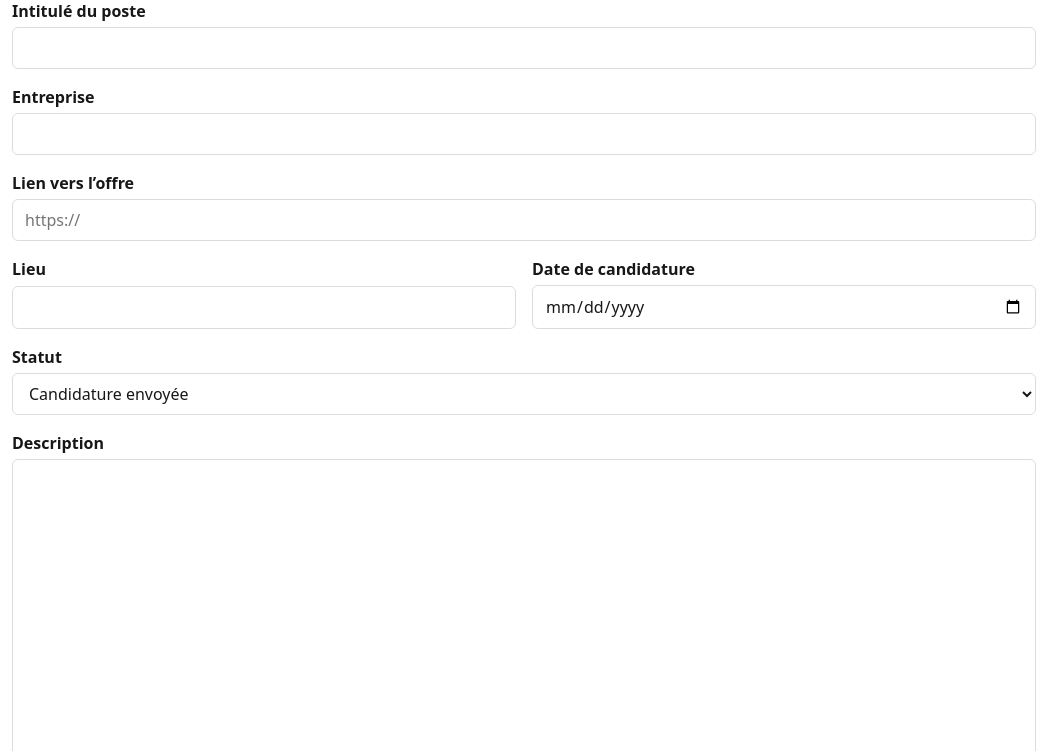
Test: OfferForm › shows the errors returned by the action and keeps the values
Step 1. Type "Dev" into the field labelled "Intitulé du poste" → (524, 48), box [12,27,1036,69]
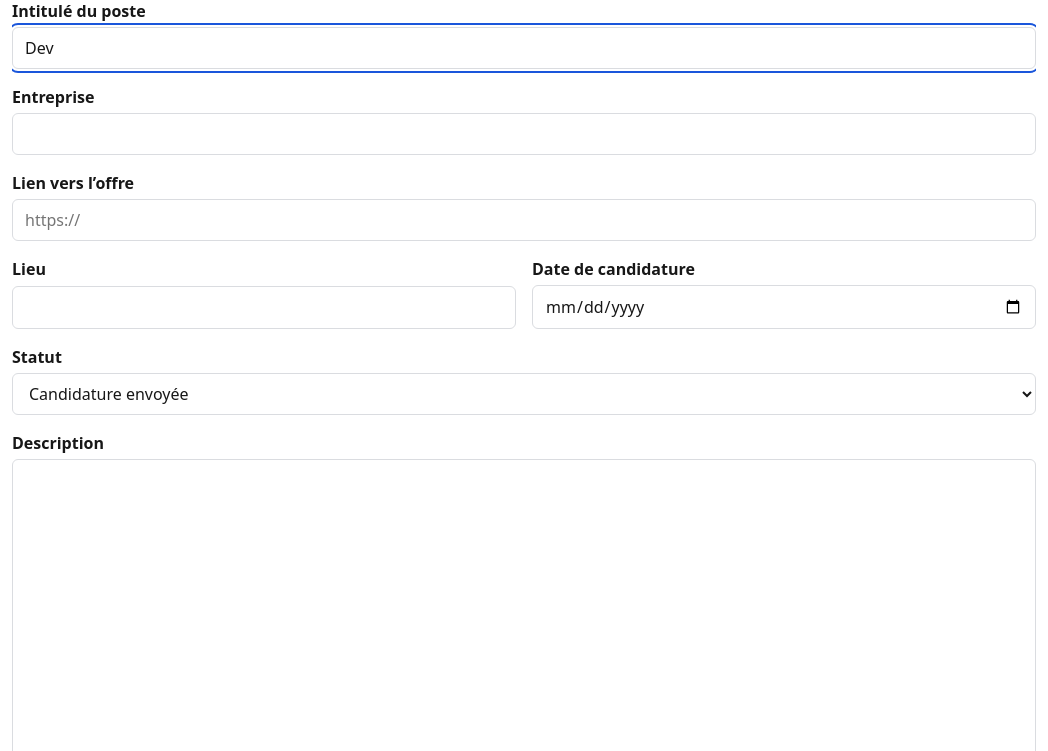
Step 2. Type "Acme" into the field labelled "Entreprise" → (524, 134), box [12,113,1036,155]
(page scrolled)
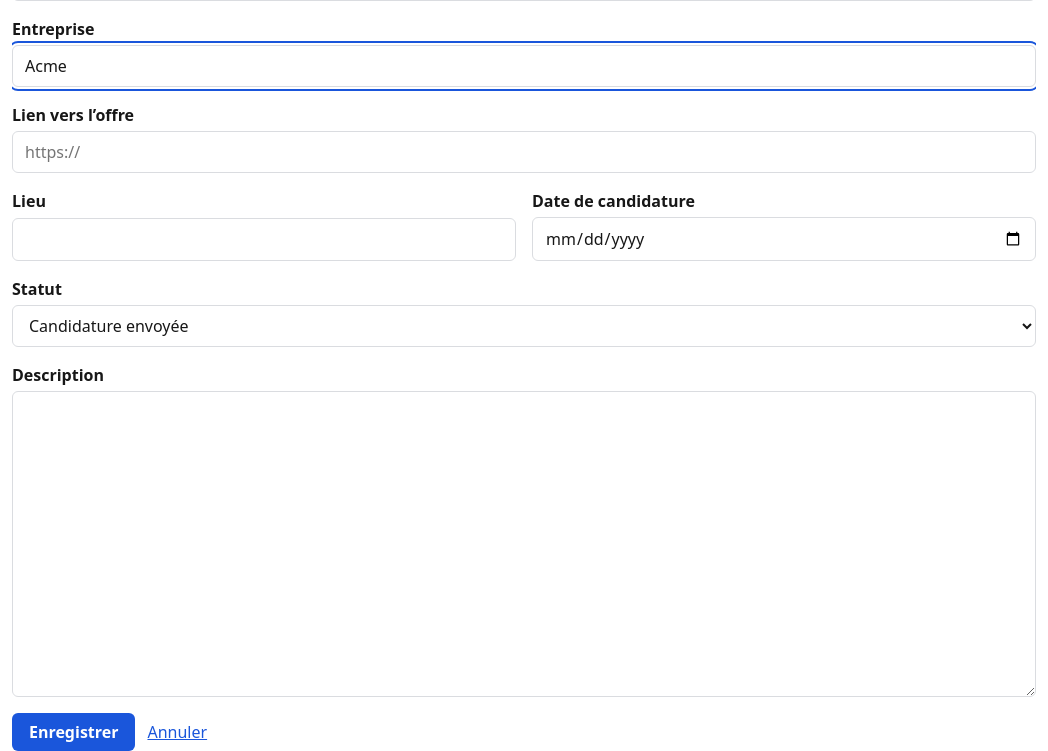
Step 3. Click the button "Enregistrer" → (74, 732), box [12,713,136,750]
(page scrolled)
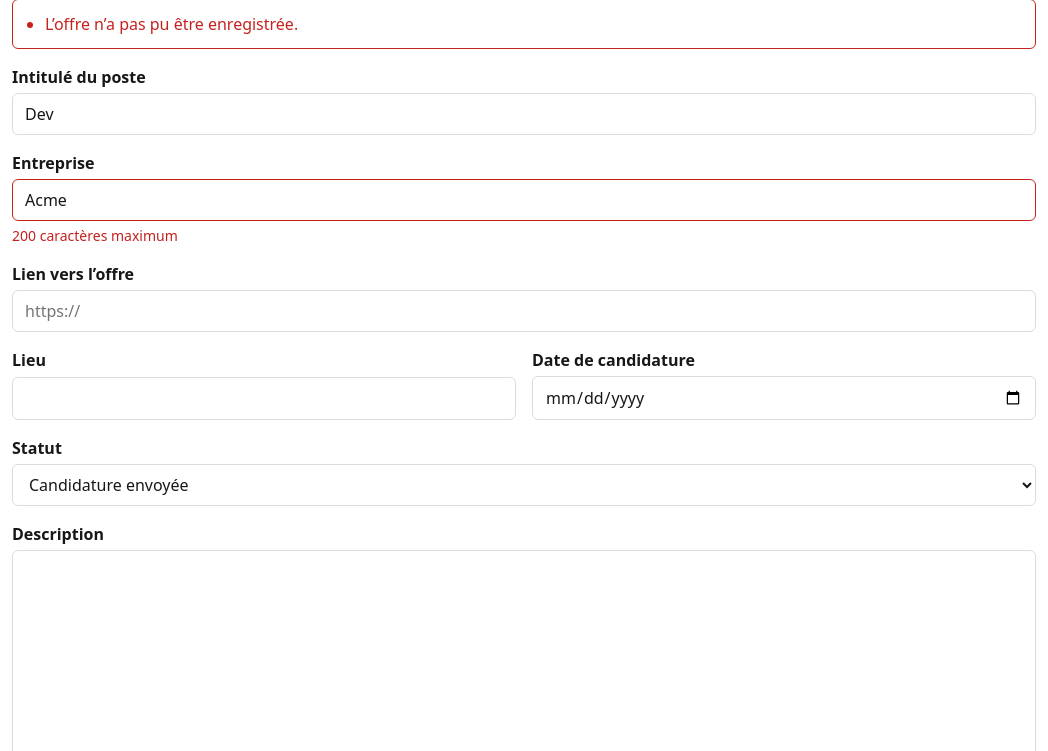
Expected: the message reads "L’offre n’a pas pu être enregistrée.", [45,13,298,35]
